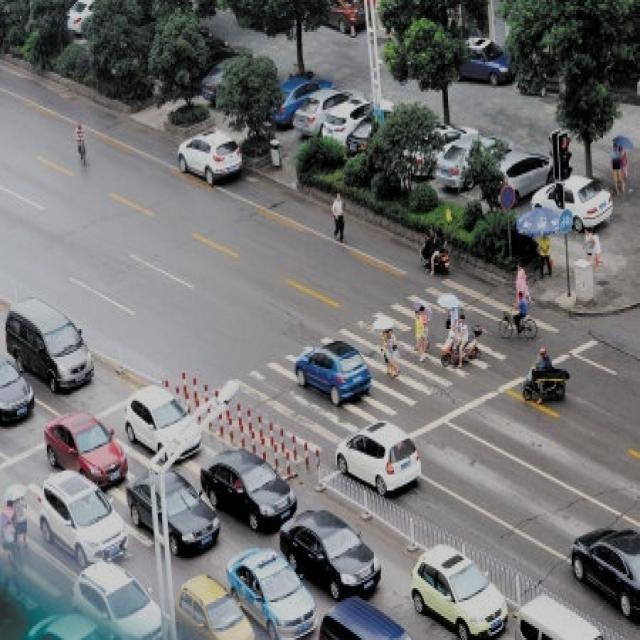non-fight: (381, 326, 402, 380), (10, 491, 30, 546), (328, 190, 348, 243), (608, 139, 622, 193), (457, 314, 470, 368), (418, 307, 430, 364), (619, 144, 630, 190), (412, 306, 422, 354), (515, 261, 525, 309), (74, 118, 85, 158)
